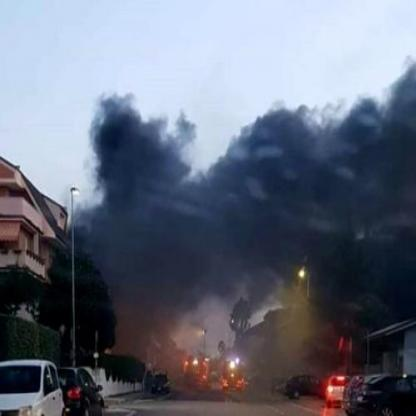other: (180, 343, 249, 393), (327, 375, 344, 403), (290, 262, 310, 283), (65, 180, 80, 201)
smoke: (84, 102, 414, 264)
